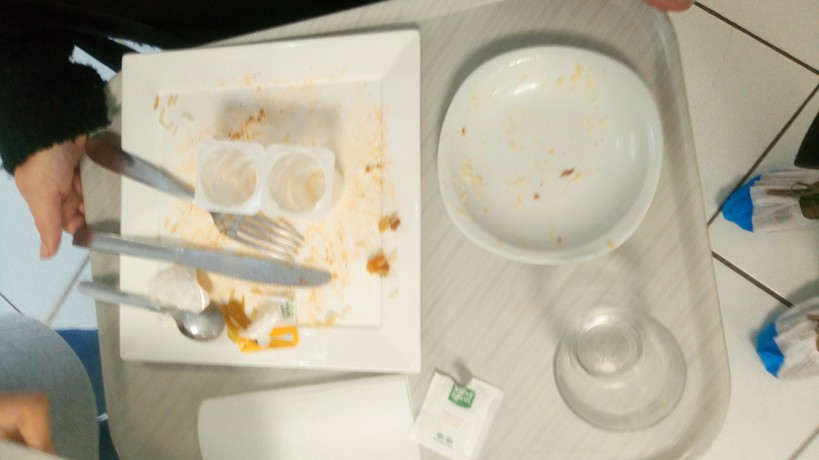cup: (548, 295, 714, 424)
cutlery: (80, 130, 309, 257), (65, 222, 332, 295), (75, 270, 226, 343)
trash: (184, 140, 346, 219), (417, 371, 508, 458)
